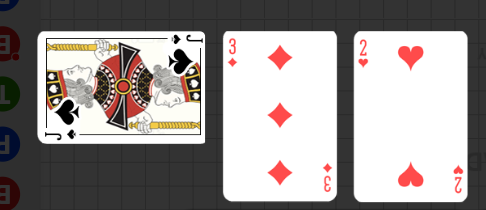2H: (357, 38, 370, 70)
3D: (227, 37, 239, 69)
7S: (44, 129, 78, 143)
